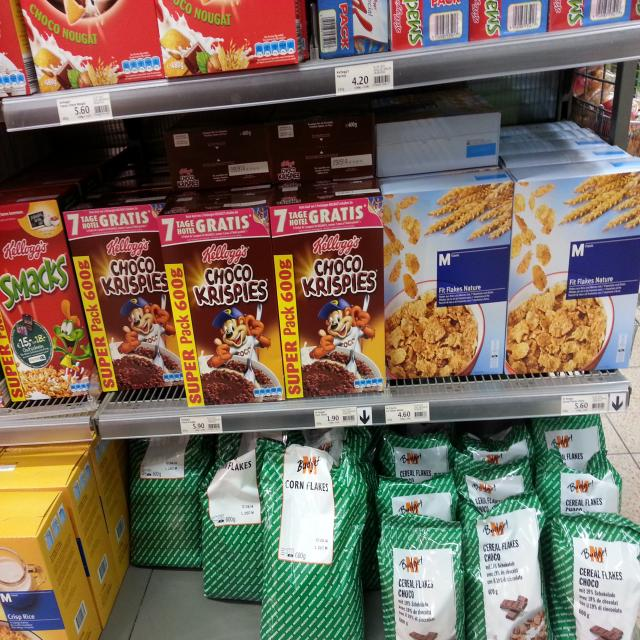Cereals: (504, 164, 640, 371), (372, 171, 504, 376), (66, 186, 190, 398), (162, 193, 285, 405), (271, 187, 394, 396), (260, 427, 366, 640), (0, 189, 99, 400), (0, 469, 111, 637), (545, 510, 640, 640), (459, 502, 547, 640), (23, 0, 164, 81), (373, 513, 462, 640), (199, 434, 264, 599), (120, 437, 201, 568), (155, 0, 306, 69), (308, 0, 390, 62), (376, 477, 458, 528), (540, 465, 620, 516), (535, 419, 610, 469), (468, 0, 546, 44), (392, 0, 471, 41), (457, 466, 533, 507), (372, 433, 448, 472), (452, 435, 528, 458)
